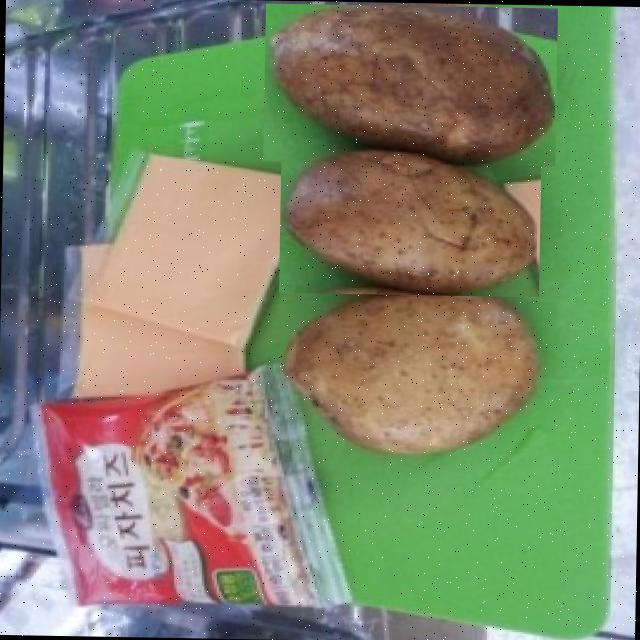Damaged potato: (262, 2, 558, 165), (276, 283, 542, 458), (278, 139, 542, 296)
